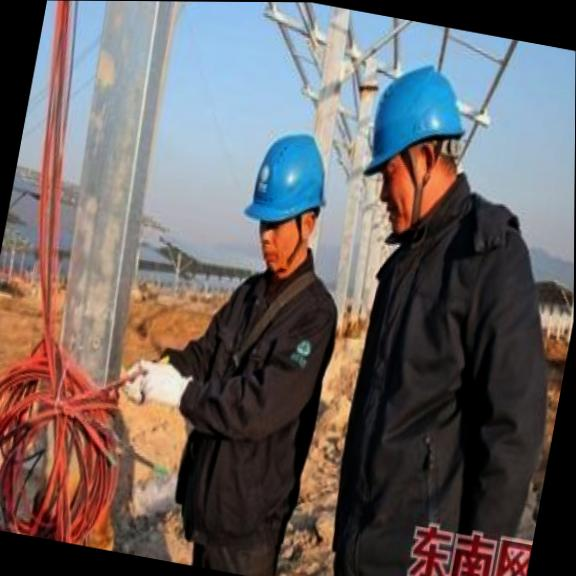no_safety_vest: (311, 198, 575, 576), (162, 253, 350, 551)
